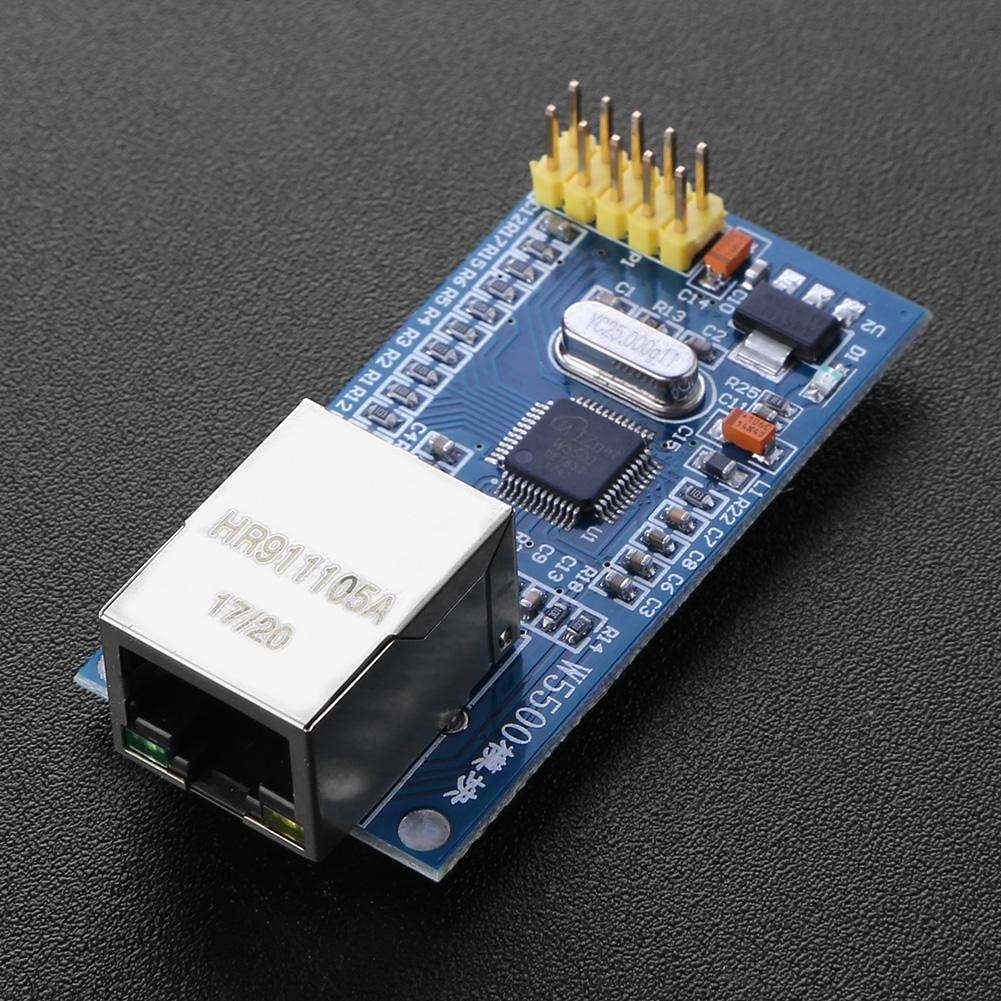Ethernet-W5500: (58, 70, 949, 930)
